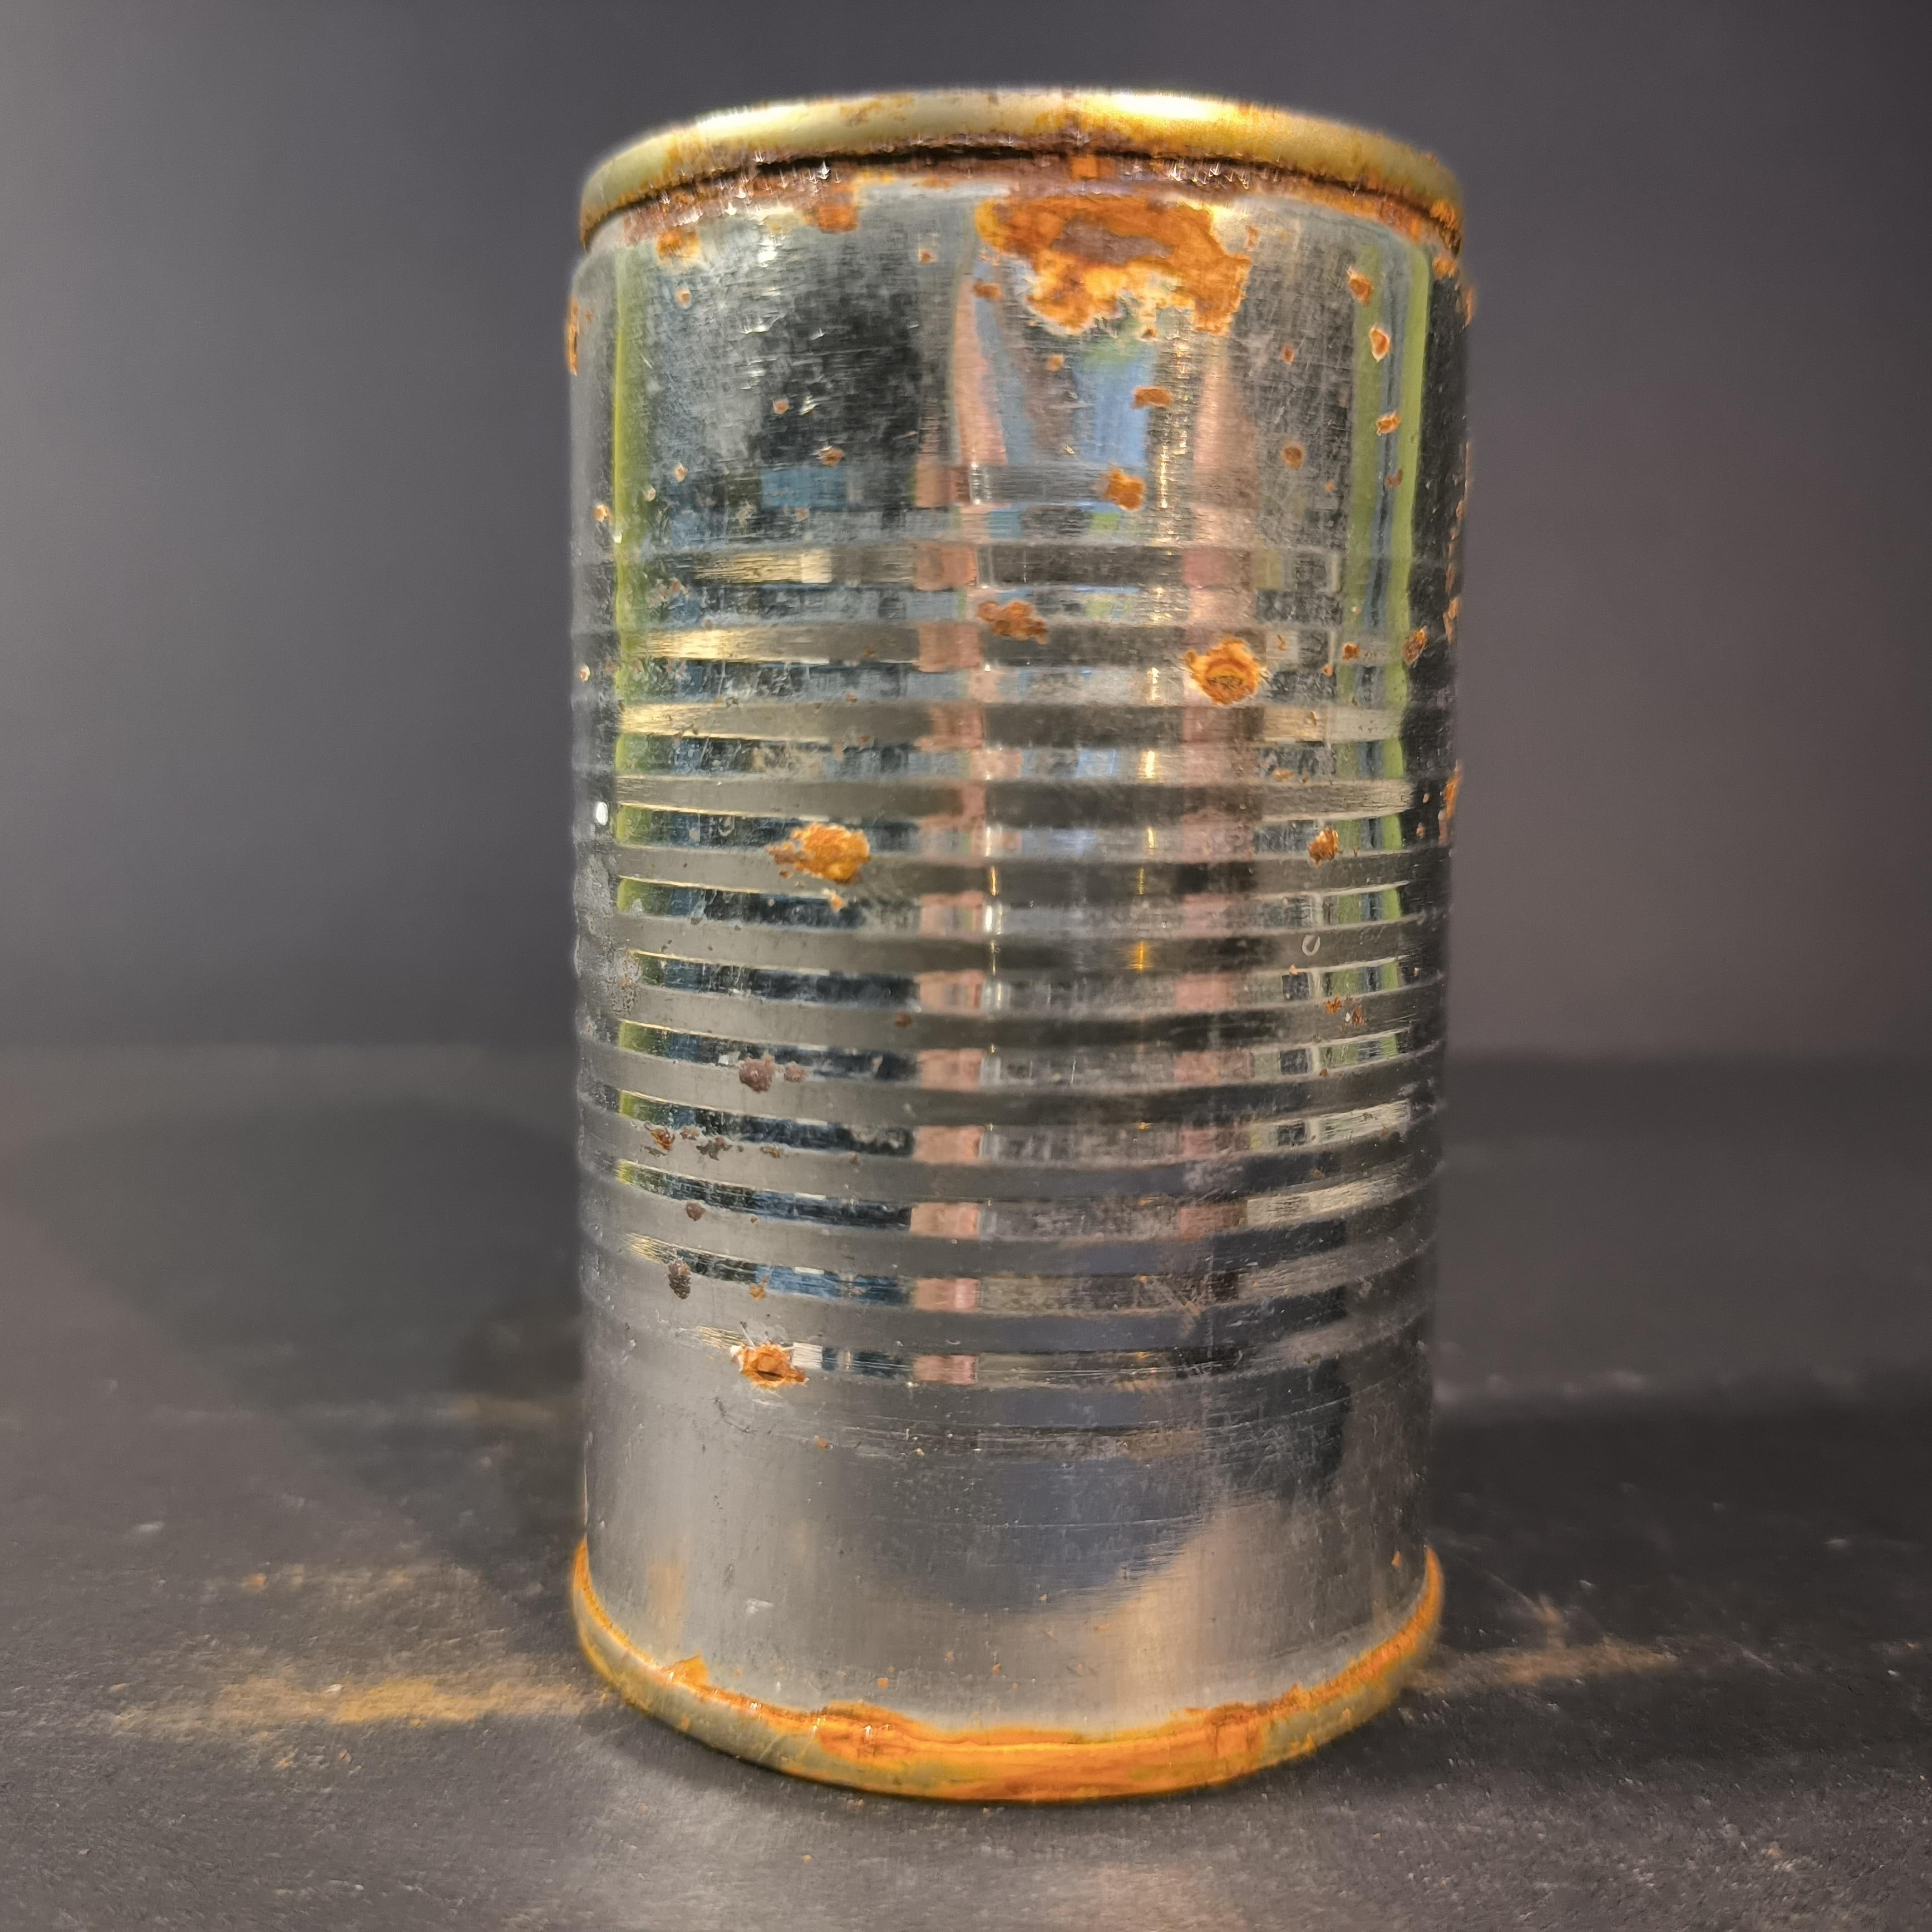Rusted: (543, 67, 1491, 1828)
